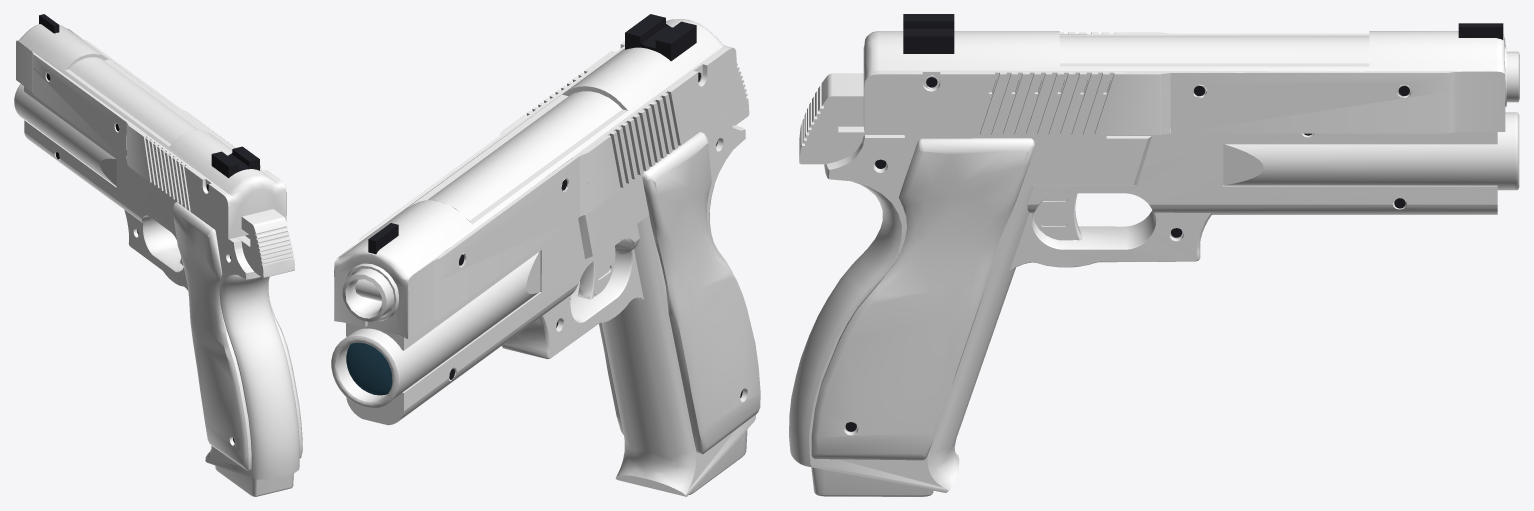
File: arc-light-gun.glb
3 renders of one model, left to right at view 1: azimuth 30°, elevation 25°; view 2: azimuth 150°, elevation 25°; view 3: azimuth 270°, elevation 25°, orthographic. The views are drawn at different scales.
Parts seen in each view (by area): view 1: frame_panels_lod0, slide_panels_lod0, slide_shell_lod0, frame_shell_lod0, rear_sight_geometry_lod0; view 2: frame_panels_lod0, slide_panels_lod0, slide_shell_lod0, frame_shell_lod0, rear_sight_geometry_lod0, frame_lens_lod0, trigger_shell_lod0, front_sight_geometry_lod0, trigger_panels_lod0; view 3: frame_panels_lod0, slide_shell_lod0, frame_shell_lod0, slide_panels_lod0, rear_sight_geometry_lod0, trigger_shell_lod0.
Boxes of the visible parts, x1,y1,x2,y2 form: frame_panels_lod0: [14, 83, 302, 496]; slide_panels_lod0: [17, 24, 286, 239]; slide_shell_lod0: [16, 29, 291, 249]; frame_shell_lod0: [24, 86, 294, 477]; rear_sight_geometry_lod0: [211, 146, 259, 178]; frame_panels_lod0: [331, 125, 760, 494]; slide_panels_lod0: [334, 19, 732, 338]; slide_shell_lod0: [334, 48, 743, 338]; frame_shell_lod0: [346, 80, 754, 496]; rear_sight_geometry_lod0: [625, 14, 696, 61]; frame_lens_lod0: [346, 342, 392, 395]; trigger_shell_lod0: [592, 246, 615, 298]; front_sight_geometry_lod0: [368, 223, 398, 254]; trigger_panels_lod0: [577, 260, 594, 299]; frame_panels_lod0: [789, 112, 1519, 496]; slide_shell_lod0: [810, 32, 1505, 134]; frame_shell_lod0: [799, 103, 1497, 492]; slide_panels_lod0: [863, 31, 1519, 134]; rear_sight_geometry_lod0: [903, 14, 954, 53]; trigger_shell_lod0: [1033, 193, 1079, 240].
Size of what is drawn, in the model's own units: 0.0344 by 0.1712 by 0.2475.
